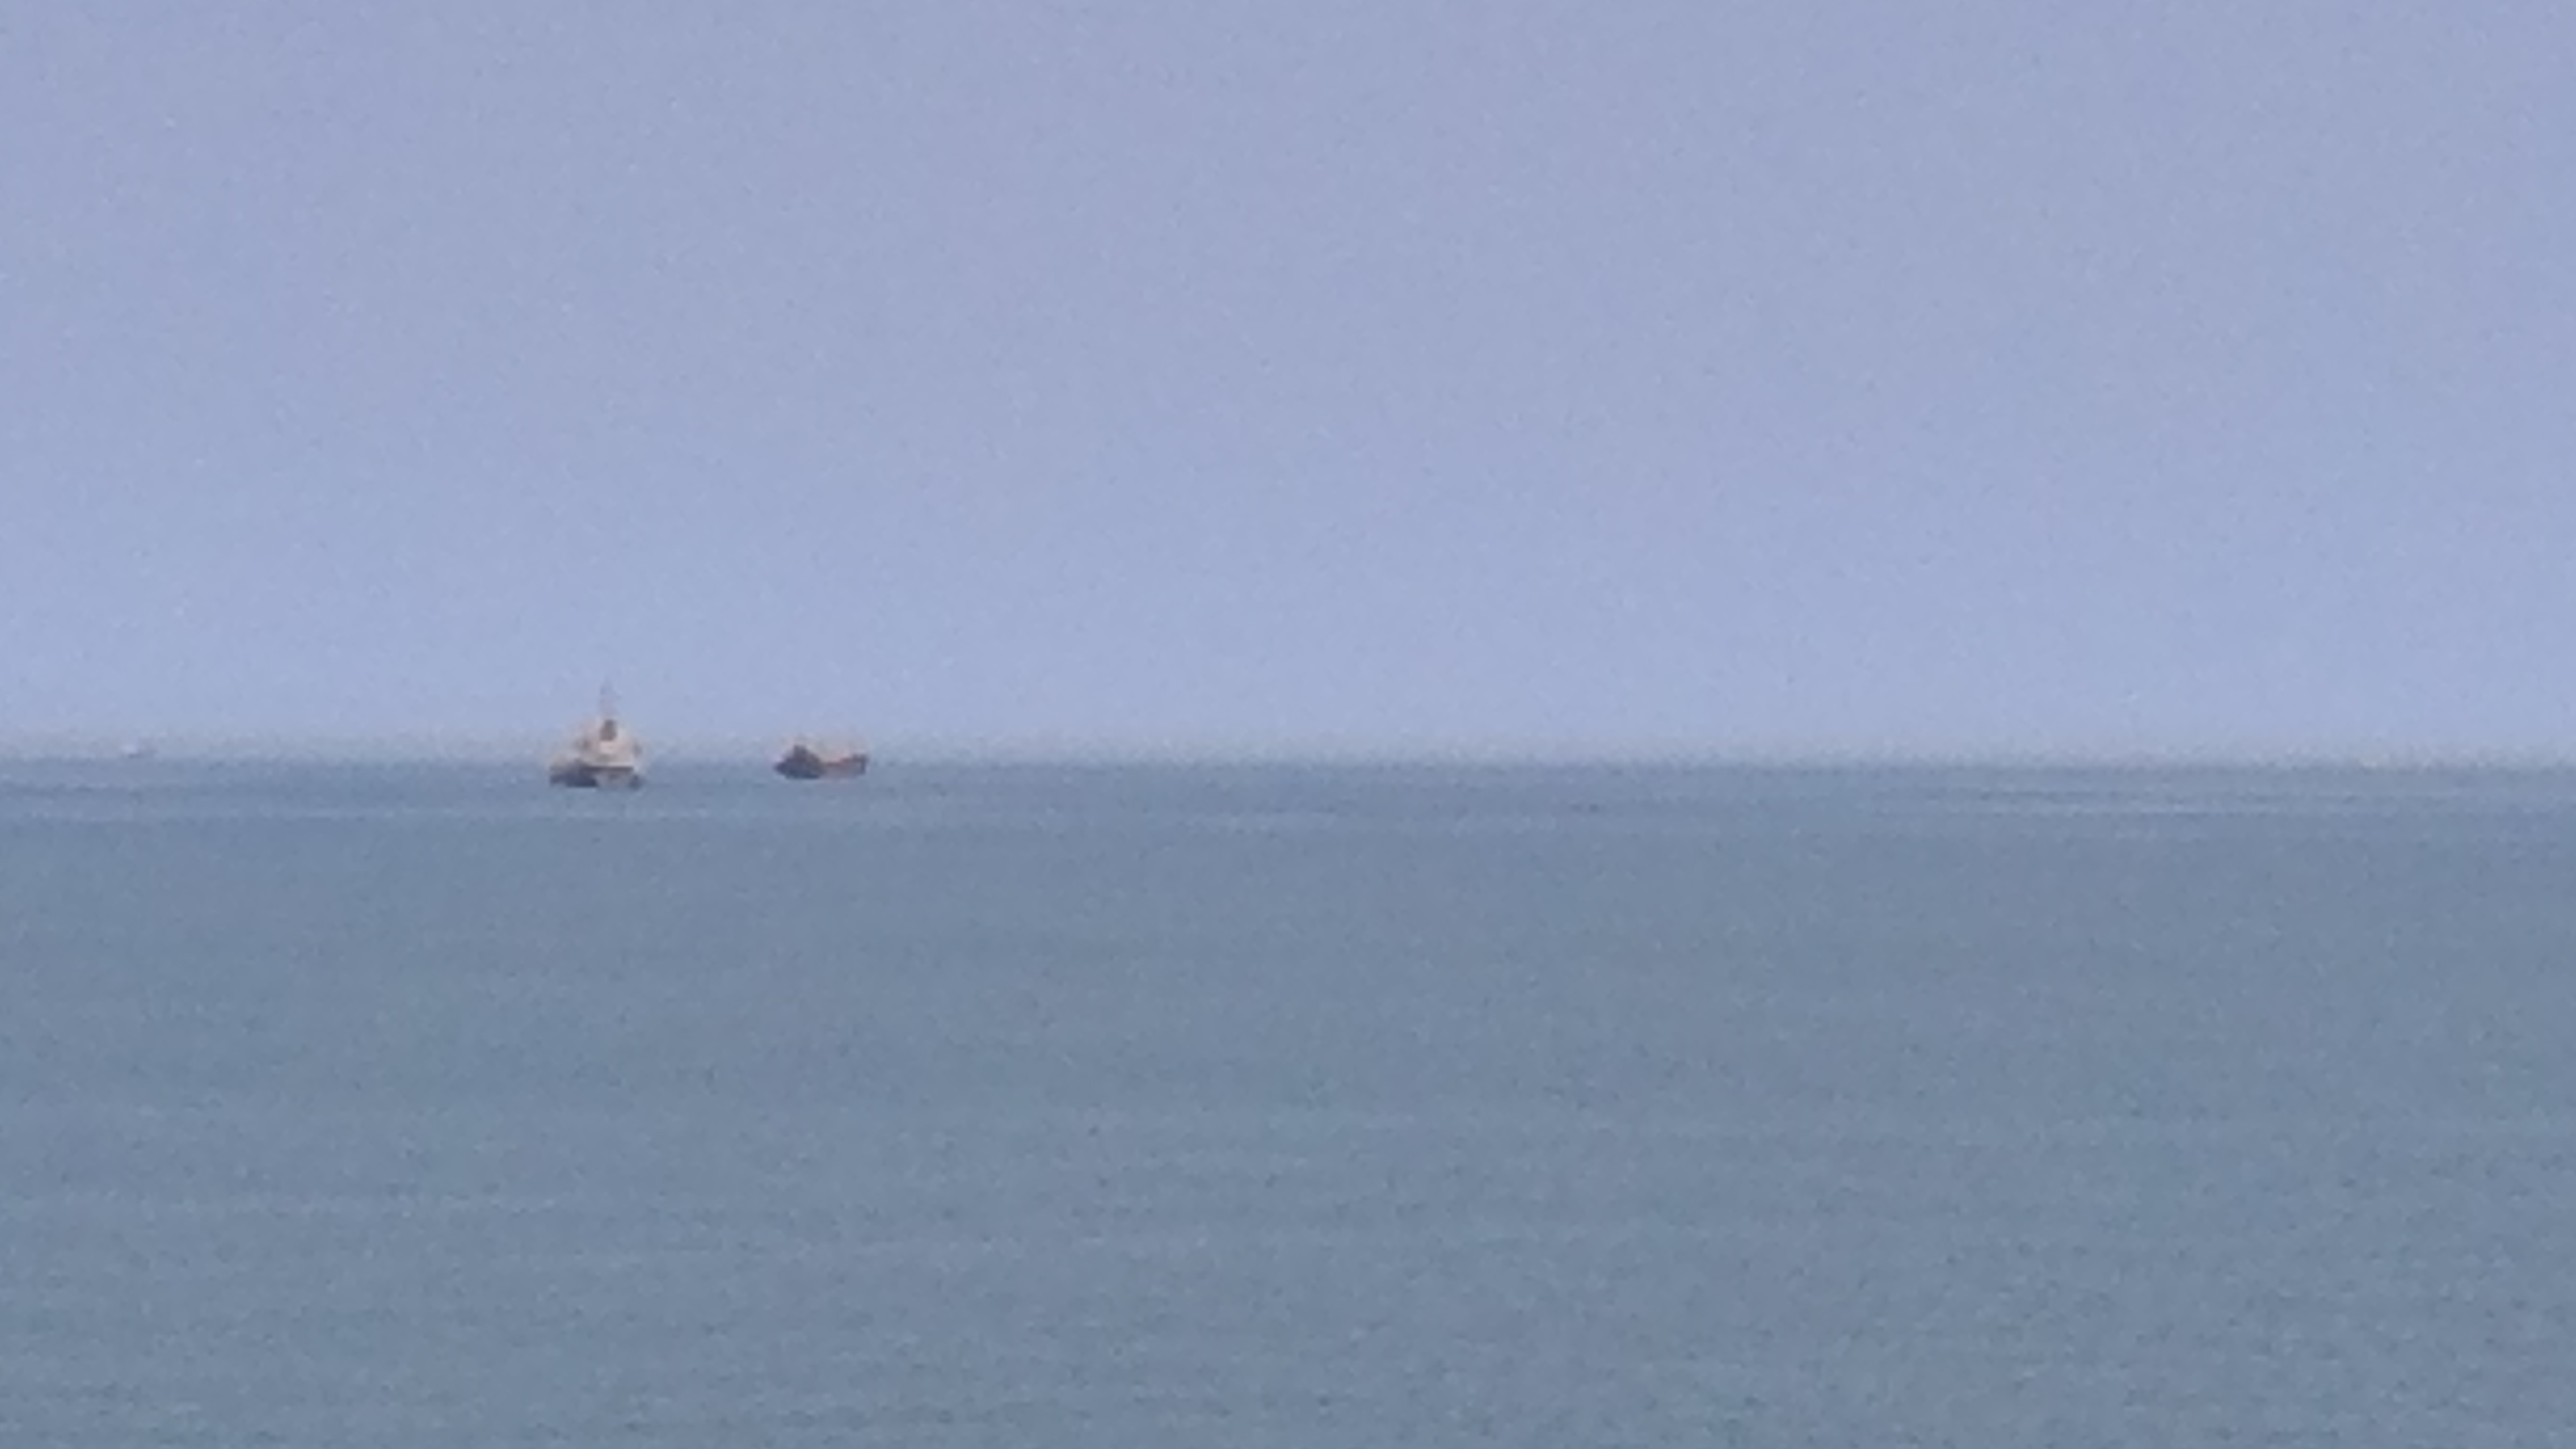ship: (541, 676, 648, 798), (731, 717, 886, 789)
